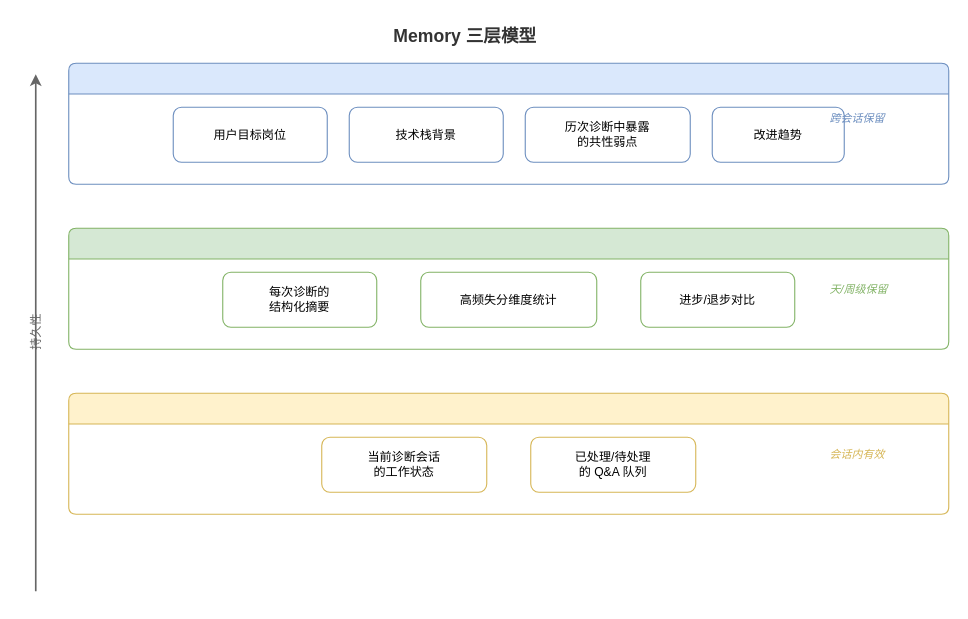
This 968x619 diagram has some shape labels left out. Each missing label, with the box of its shape:
diagnosis-history（中期）: (68, 227, 949, 349)
session-context（短期）: (68, 392, 949, 514)
user-profile（长期）: (68, 62, 949, 184)
